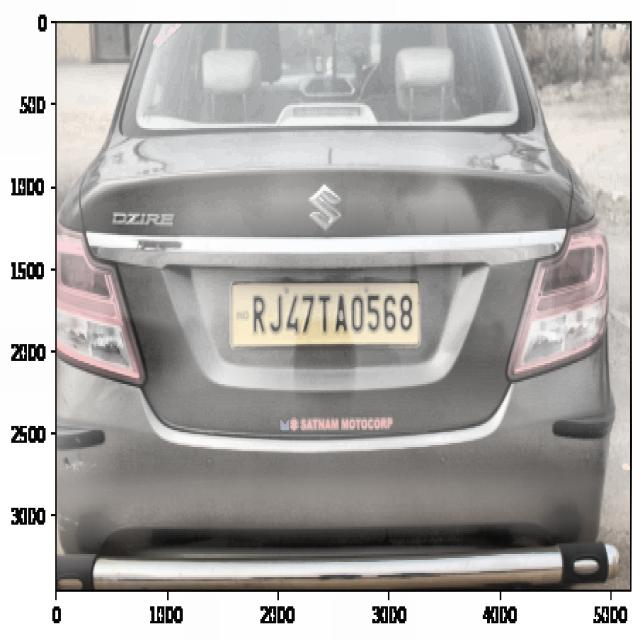license_plate: (240, 276, 418, 347)
